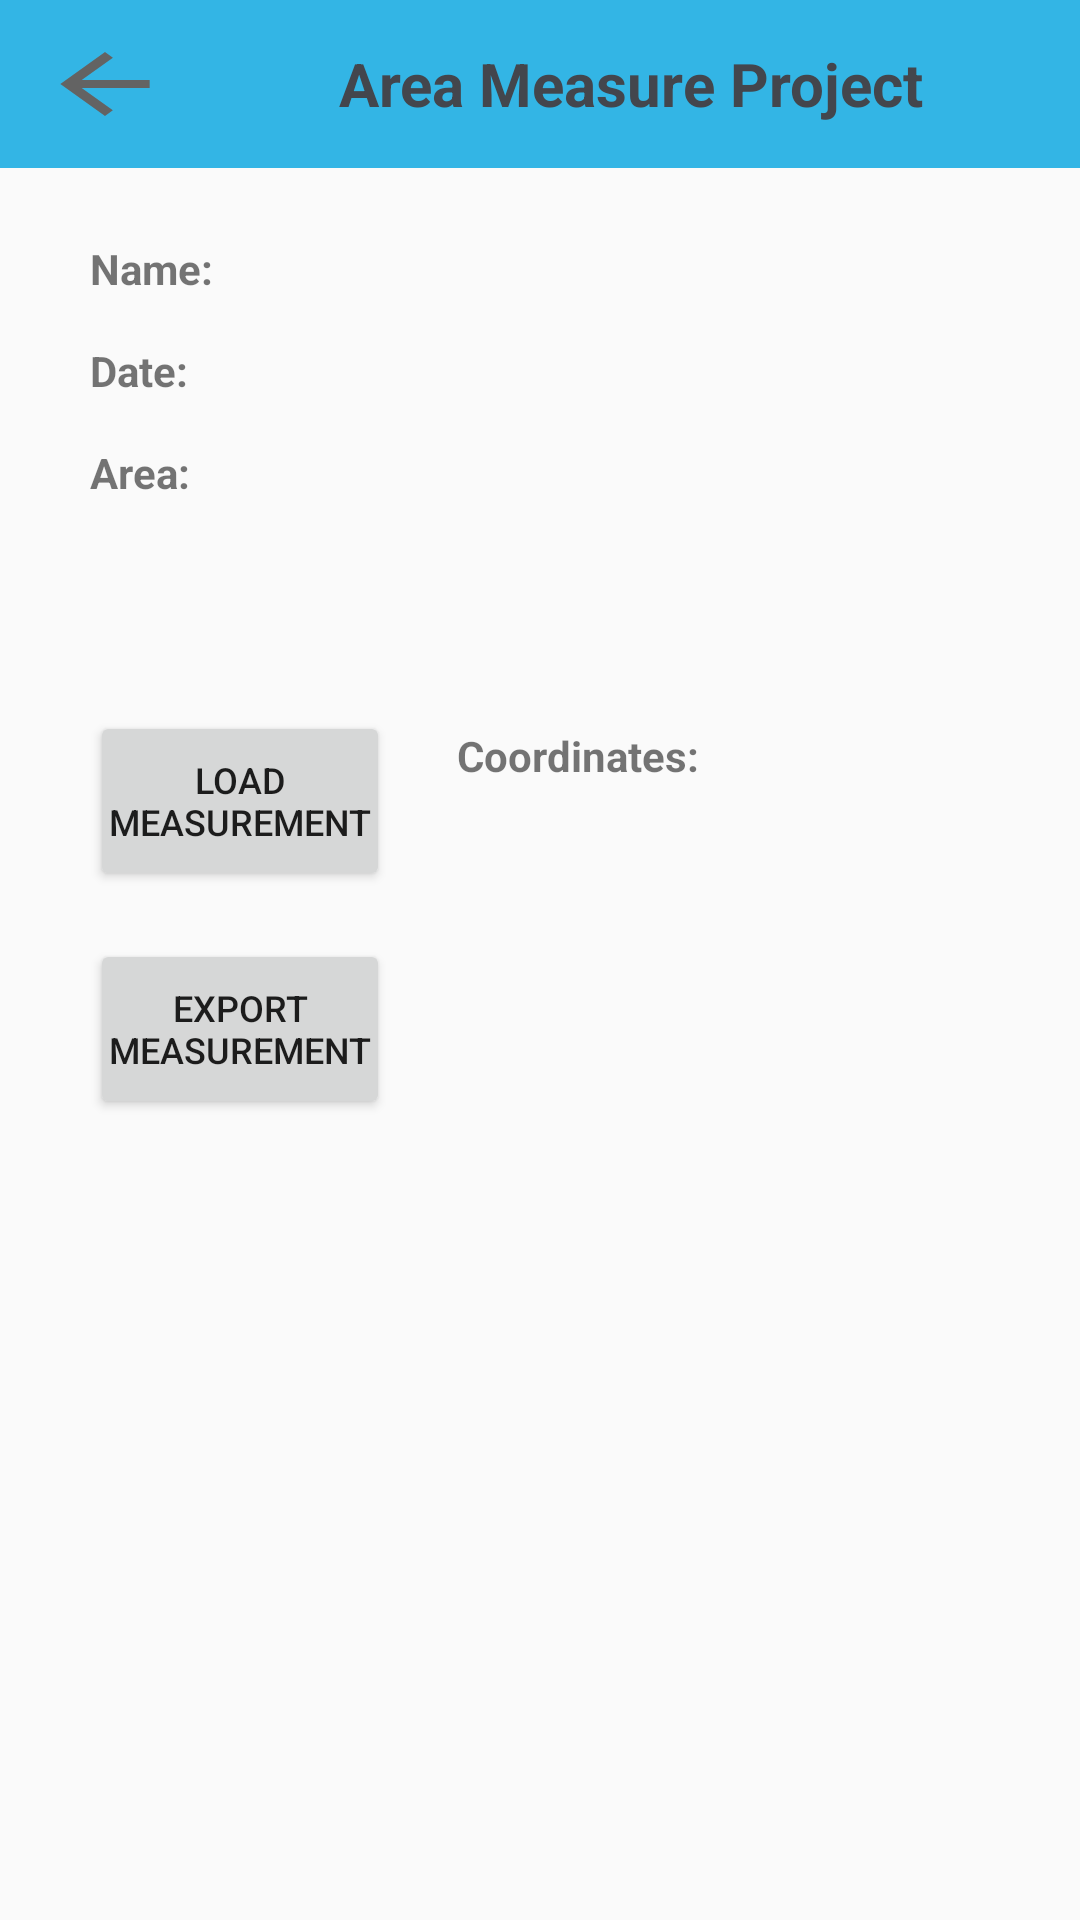

Where icons sit on this 1080x1920 app screen, as (x1, y1, x2, y2):
back: (61, 52, 150, 116)
